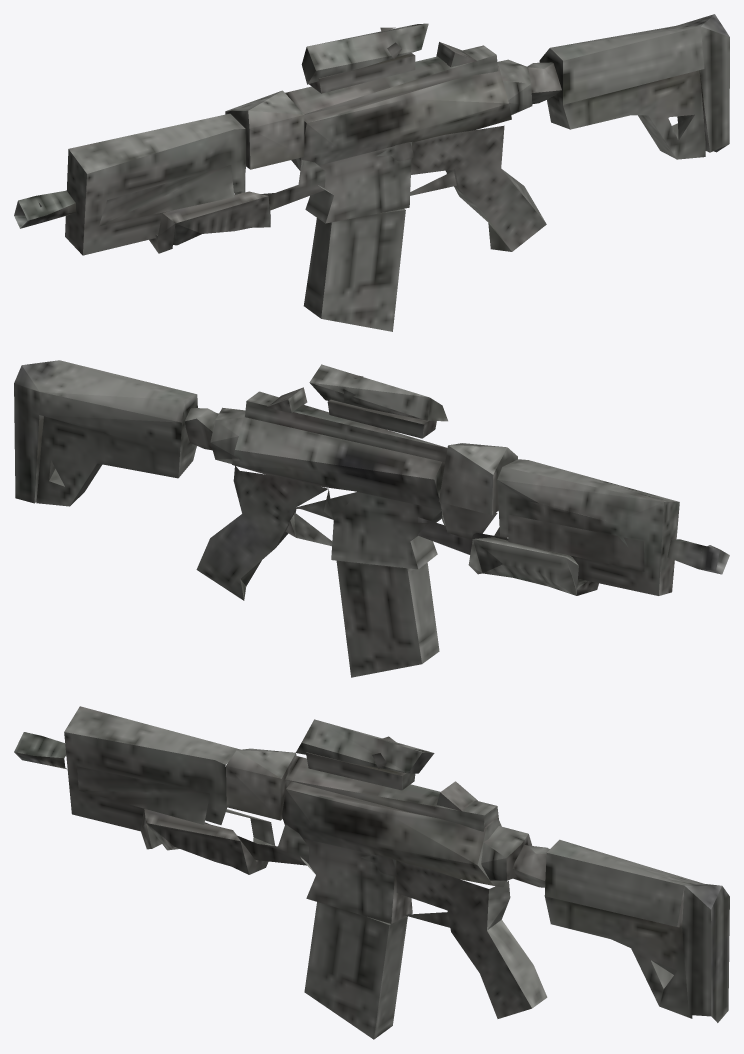
File: prop.rifle_raider.glb
The picture shows the model from 3 angles, top to bottom: view 1: azimuth 30°, elevation 25°; view 2: azimuth 150°, elevation 25°; view 3: azimuth 330°, elevation 25°; orthographic projection.
Parts seen in each view (by area): view 1: body; view 2: body; view 3: body.
Part boxes in pixels (<box>): body: <box>14,14,729,331</box>; body: <box>14,360,729,677</box>; body: <box>14,706,729,1039</box>.
Bounding box in the file's own units: 0.5 × 0.2009 × 0.0394.
Materials: 1 (1 with a texture image).
